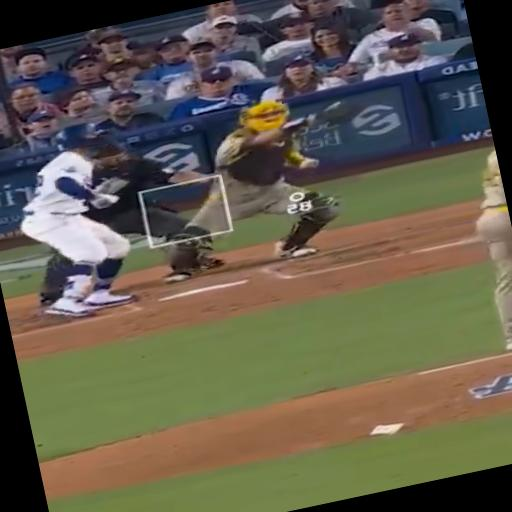bat: (98, 183, 114, 206)
